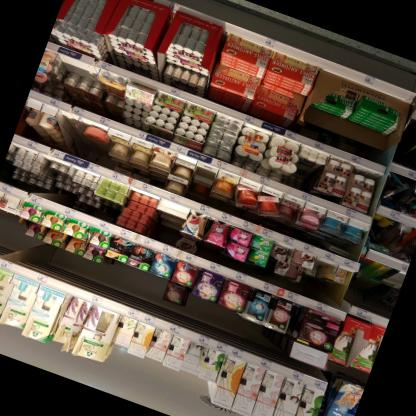empty_space: (56, 55, 106, 87), (149, 206, 184, 246), (54, 116, 89, 155), (290, 153, 323, 193), (188, 164, 218, 195), (80, 138, 109, 167)
